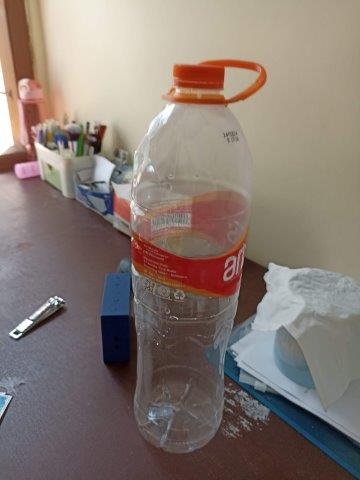botolplastik: (130, 64, 253, 453)
